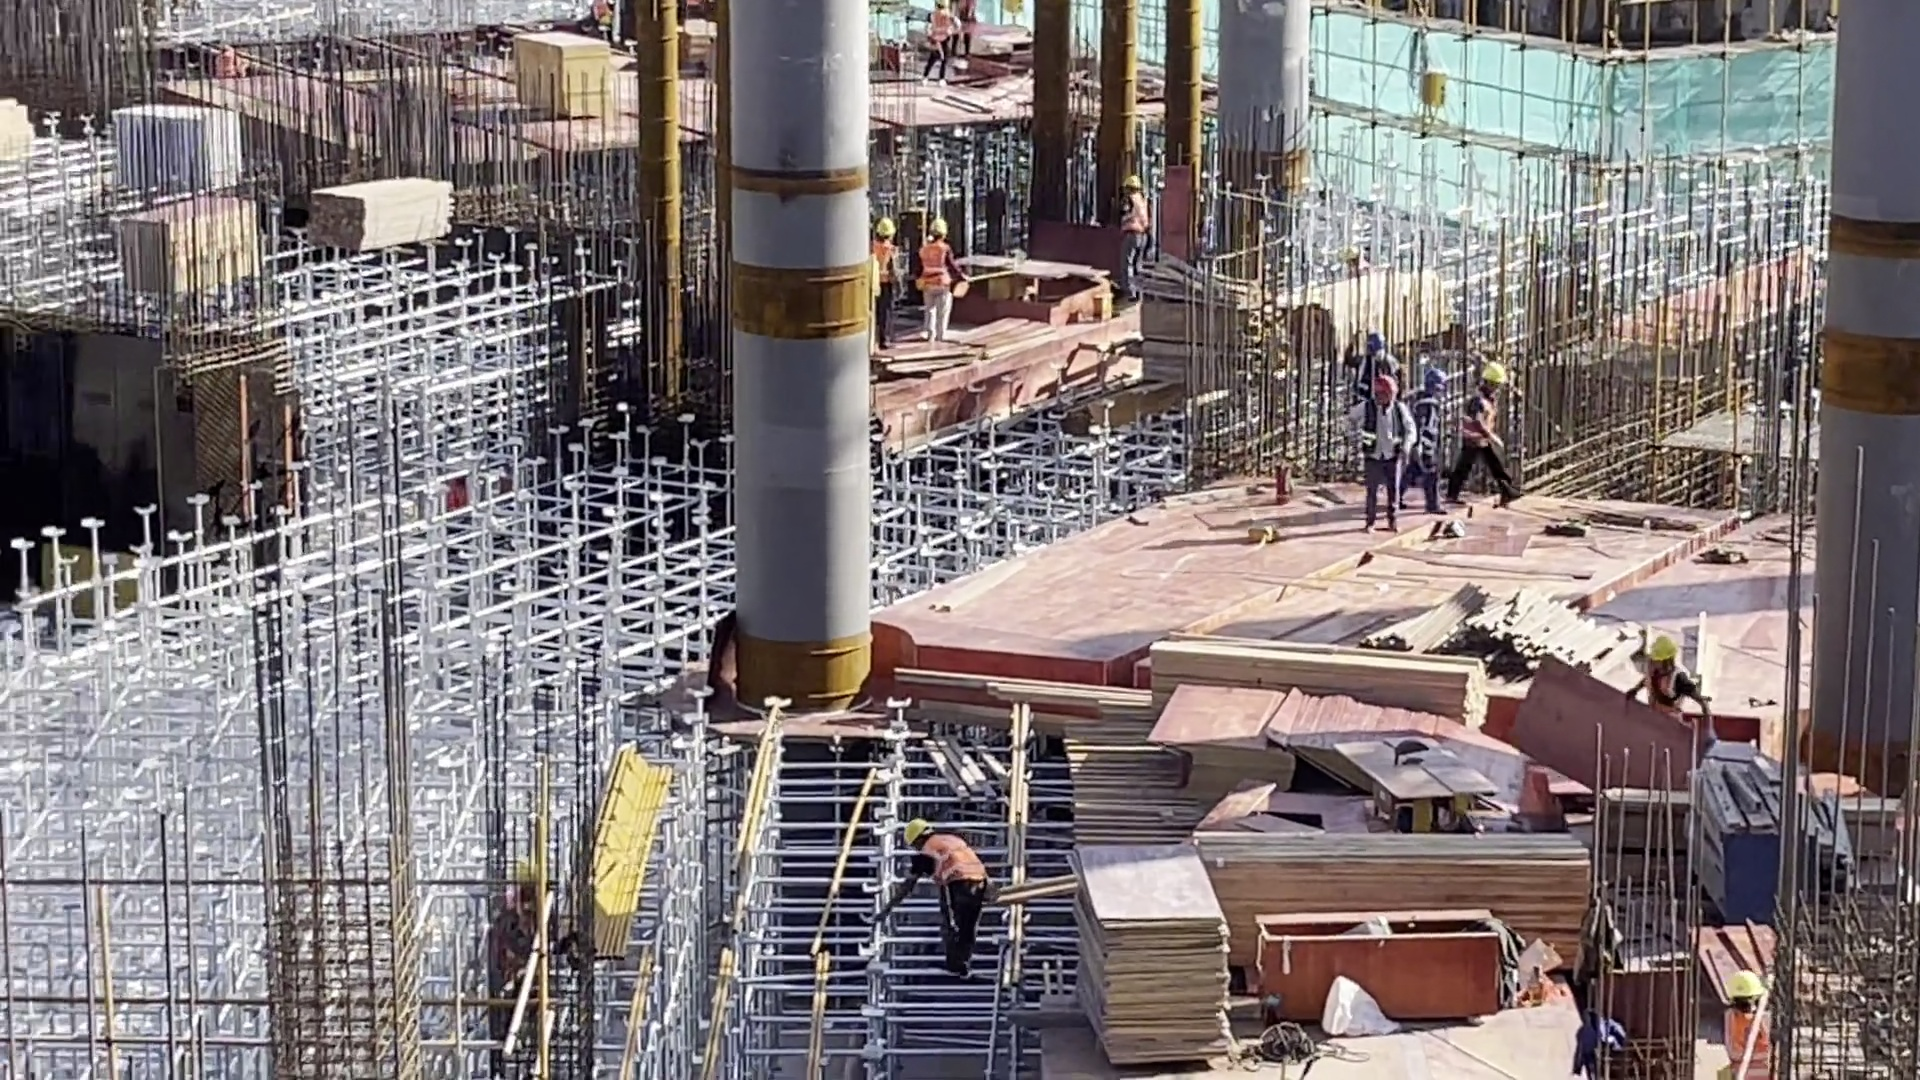board: (1055, 853, 1226, 1061), (1163, 687, 1299, 819), (121, 195, 265, 299), (511, 25, 624, 121)
cutter: (1343, 728, 1522, 832), (1001, 261, 1111, 333)
ebox: (1419, 68, 1451, 124), (998, 1, 1029, 20)
helmet: (1724, 972, 1764, 1008), (898, 822, 929, 849), (1650, 634, 1684, 656), (1367, 379, 1399, 401), (1479, 360, 1506, 386), (877, 221, 898, 244), (1124, 174, 1147, 192), (927, 221, 954, 238), (1428, 369, 1447, 388)
person: (884, 814, 990, 999), (1357, 376, 1416, 527), (1715, 963, 1790, 1080), (1461, 365, 1514, 521), (1633, 636, 1715, 732), (1414, 370, 1451, 530), (914, 215, 957, 344), (871, 218, 906, 361), (1115, 167, 1151, 290), (924, 3, 959, 93), (1343, 333, 1398, 383)
vest: (918, 837, 989, 900), (1647, 665, 1698, 734), (1721, 1015, 1773, 1073), (1458, 393, 1496, 451), (919, 251, 959, 294), (1121, 196, 1153, 242), (873, 247, 900, 292), (934, 11, 954, 51)
wood: (1189, 838, 1594, 923), (1225, 827, 1567, 916), (1162, 635, 1470, 728), (1136, 264, 1277, 396), (1070, 283, 1238, 376), (1778, 810, 1920, 904), (317, 174, 467, 256), (1, 95, 43, 170)
